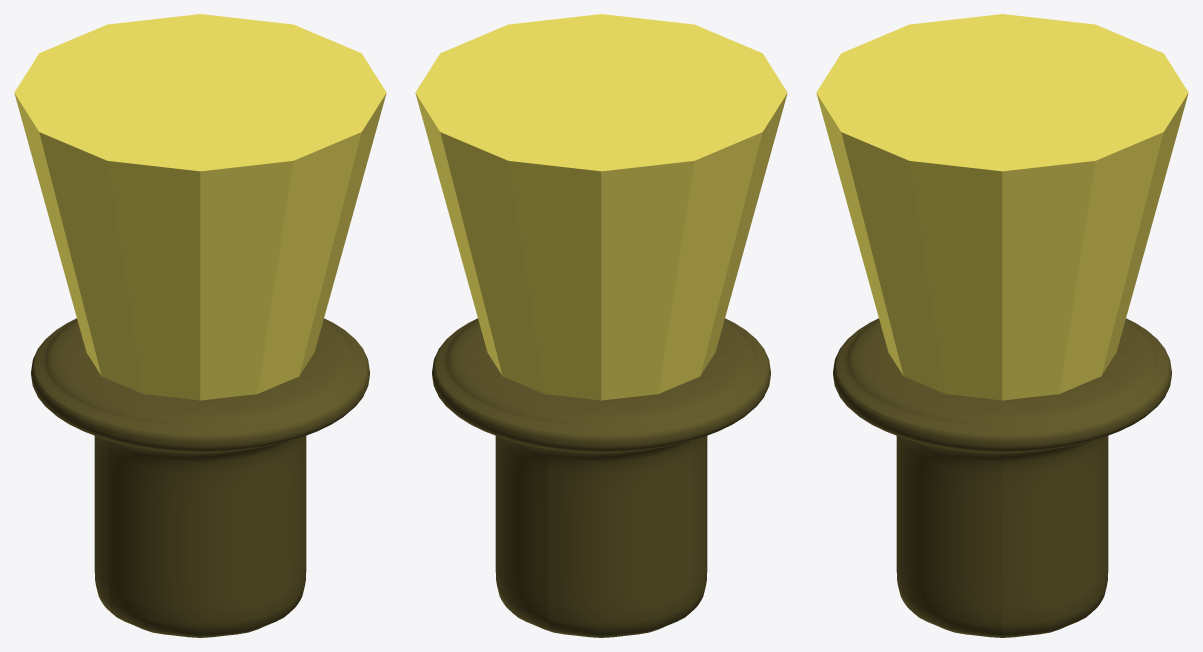
The model's file is Brush.glb.
3 views of the same model, side by side, from view 1: azimuth 30°, elevation 25°; view 2: azimuth 150°, elevation 25°; view 3: azimuth 270°, elevation 25° (orthographic).
Parts seen in each view (by area): view 1: Cylinder.002, Cylinder; view 2: Cylinder.002, Cylinder; view 3: Cylinder.002, Cylinder.
Boxes of the visible parts, left/top/right/bottom form: Cylinder.002: left=14, top=14, right=386, bottom=400; Cylinder: left=31, top=318, right=369, bottom=637; Cylinder.002: left=415, top=14, right=787, bottom=400; Cylinder: left=432, top=318, right=770, bottom=637; Cylinder.002: left=816, top=14, right=1188, bottom=400; Cylinder: left=833, top=318, right=1171, bottom=637.
Bounding box in the file's own units: 3.36 × 5.09 × 3.36.
